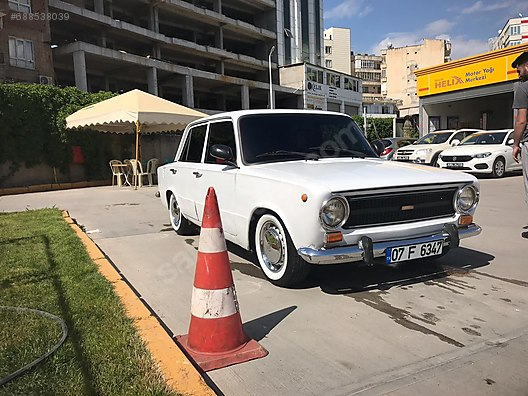murat: (147, 99, 480, 293)
